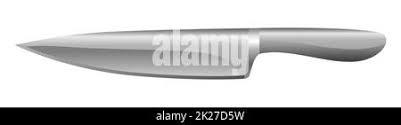Knife: (15, 26, 386, 79)
